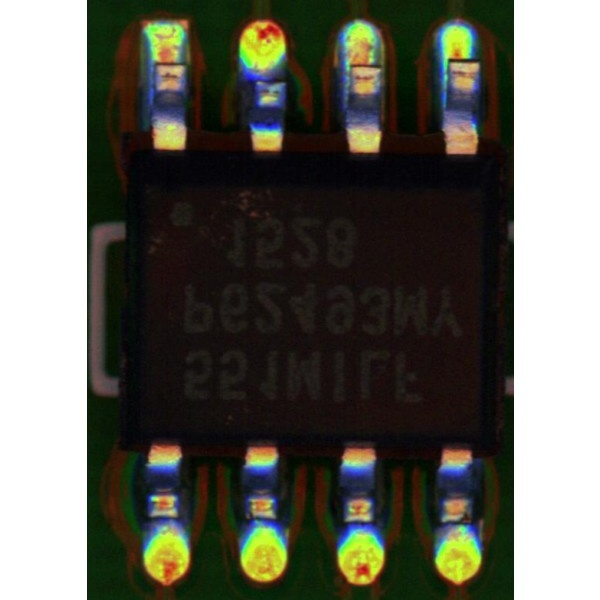Bad_podu: (157, 53, 182, 72), (350, 58, 376, 75), (450, 49, 472, 69)
Bad_qiaojiao: (439, 64, 449, 114), (148, 61, 155, 124), (343, 64, 348, 111)
